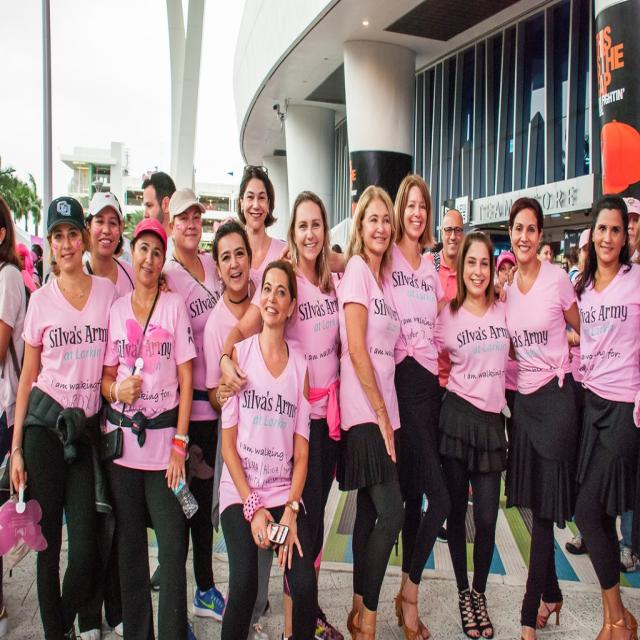body: (9, 195, 173, 640), (506, 191, 640, 639), (220, 182, 348, 639), (101, 215, 201, 639), (216, 254, 323, 639), (498, 195, 584, 639), (432, 230, 518, 640), (379, 171, 453, 640), (336, 181, 406, 640), (157, 186, 227, 633), (201, 219, 274, 640), (80, 189, 136, 640), (590, 195, 640, 574), (423, 205, 470, 542), (0, 196, 29, 477), (236, 165, 291, 300), (140, 170, 178, 269), (538, 223, 592, 282), (14, 241, 57, 285), (492, 246, 512, 284), (565, 531, 583, 556)
